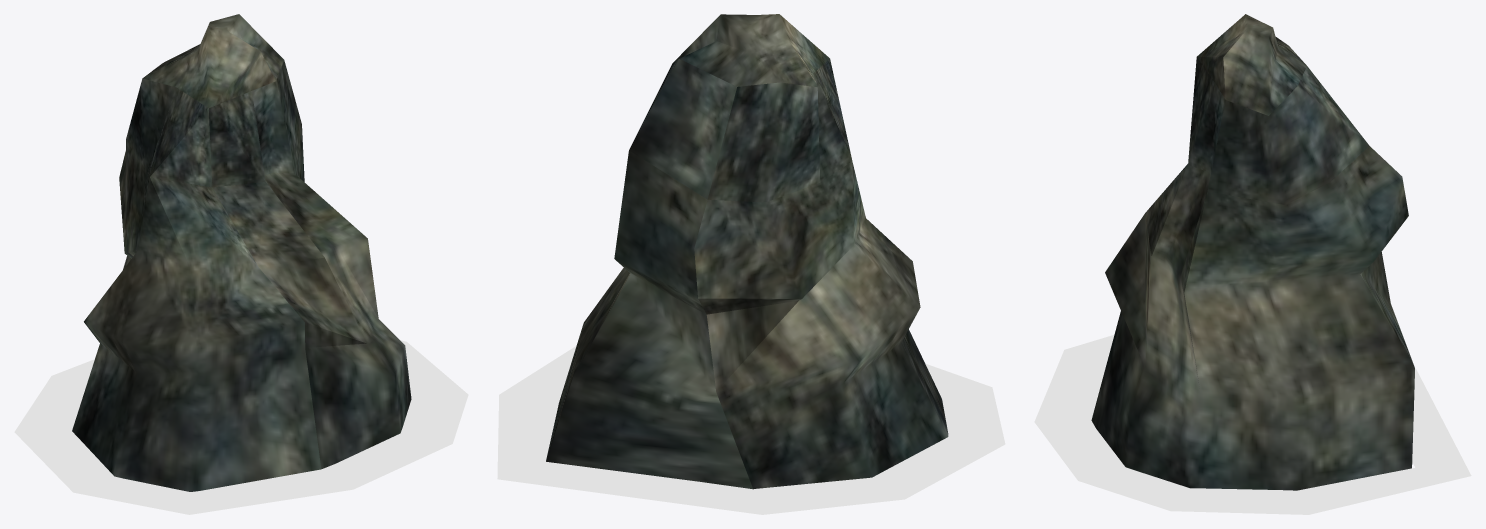
Rendered from pir_m_prp_ocn_rock_e.fbx.
3 views of the same model, side by side, from view 1: azimuth 30°, elevation 25°; view 2: azimuth 150°, elevation 25°; view 3: azimuth 270°, elevation 25° (orthographic). The views are drawn at different scales.
Parts seen in each view (by area): view 1: rock, wave; view 2: rock, wave; view 3: rock, wave.
Boxes of the visible parts, left/top/right/bottom form: rock: left=72, top=14, right=411, bottom=491; wave: left=14, top=340, right=468, bottom=514; rock: left=546, top=14, right=948, bottom=489; wave: left=497, top=346, right=1005, bottom=514; rock: left=1091, top=14, right=1414, bottom=490; wave: left=1034, top=335, right=1471, bottom=514.
Size of the model in its own units: 3320 by 3165 by 3125.
Materials: 2 (2 with a texture image).
